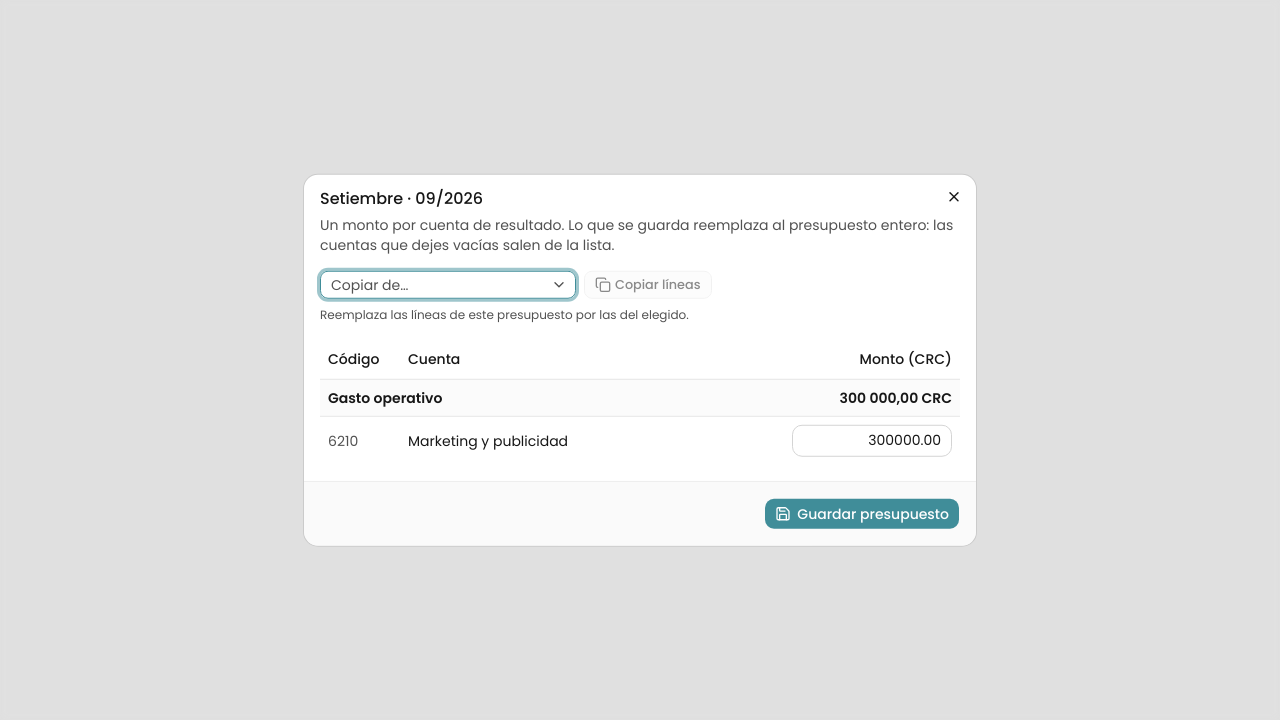
Test case: FinanceBudgetLinesDialog — el subtotal por clase sigue lo tecleado › con un monto a medio escribir no inventa un subtotal más bajo
This screenshot has width=1280, height=720.
Replace the text in the field named "Monto de 6210 Marketing y publicidad" with "1.234" at (872, 440), box [792, 424, 952, 456]
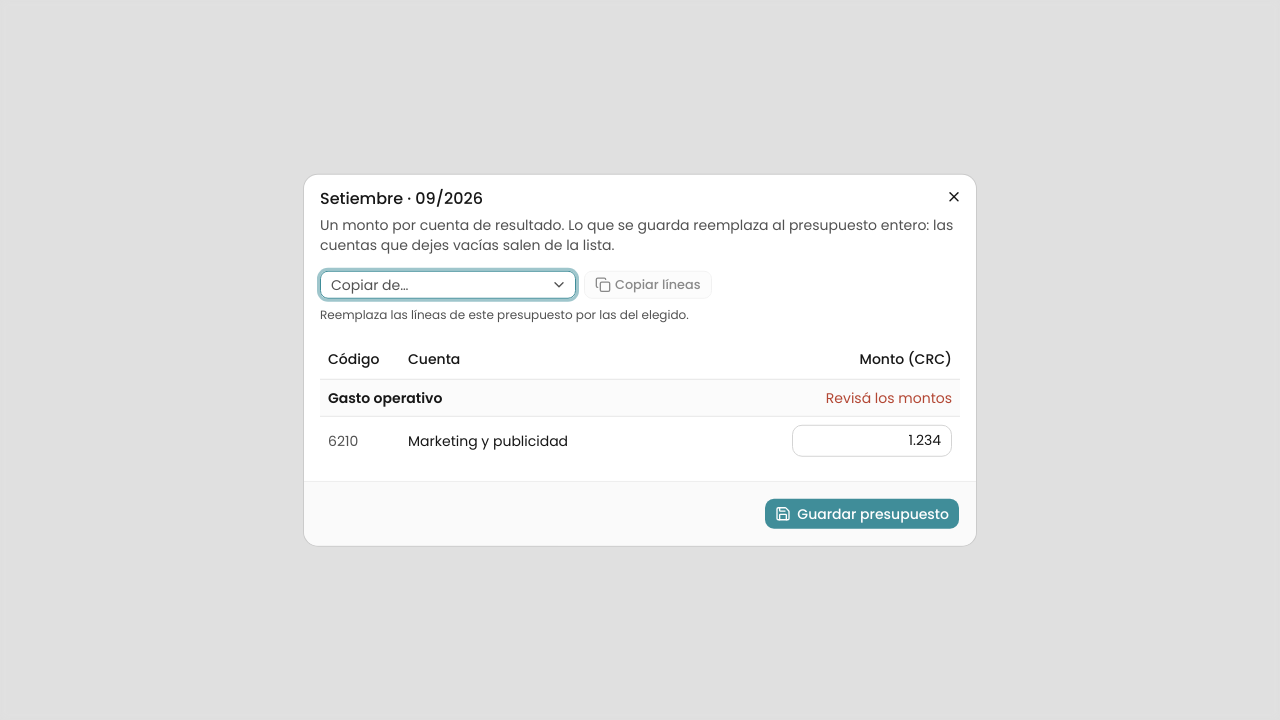
Check: the text "Revisá los montos" is shown, box [826, 387, 952, 407]
